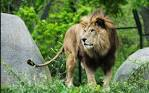lion: (28, 19, 118, 91)
